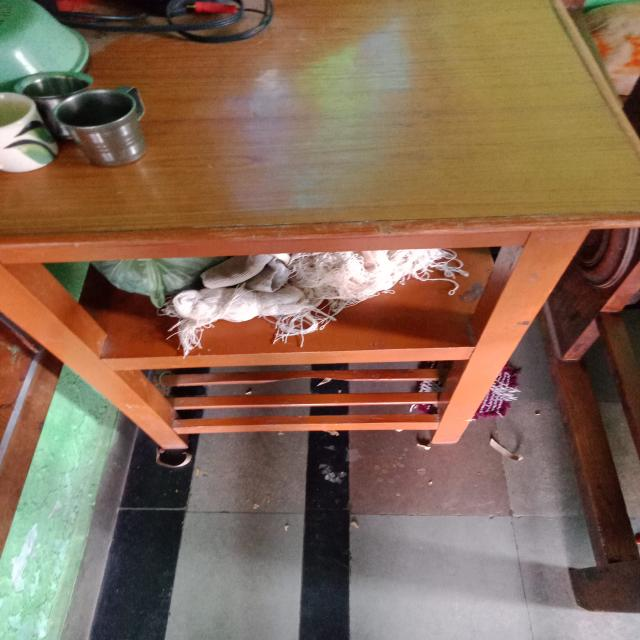glass: (52, 81, 168, 163), (0, 91, 54, 176)
table: (2, 0, 628, 466)
